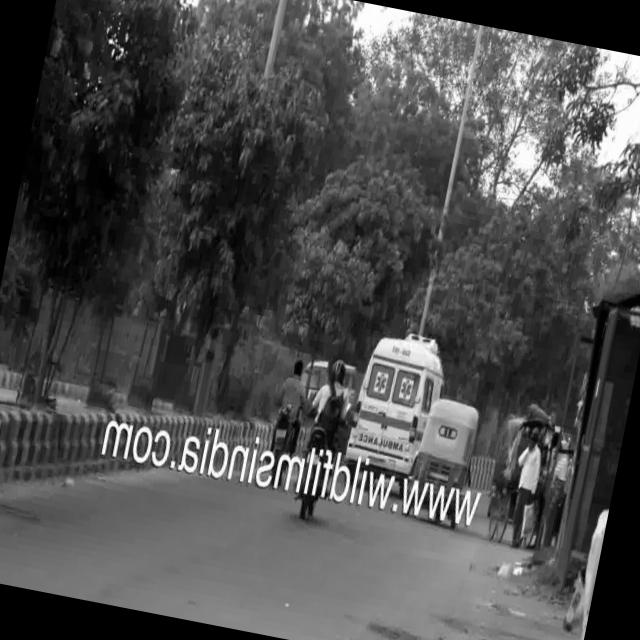ambulance: (352, 319, 451, 467)
